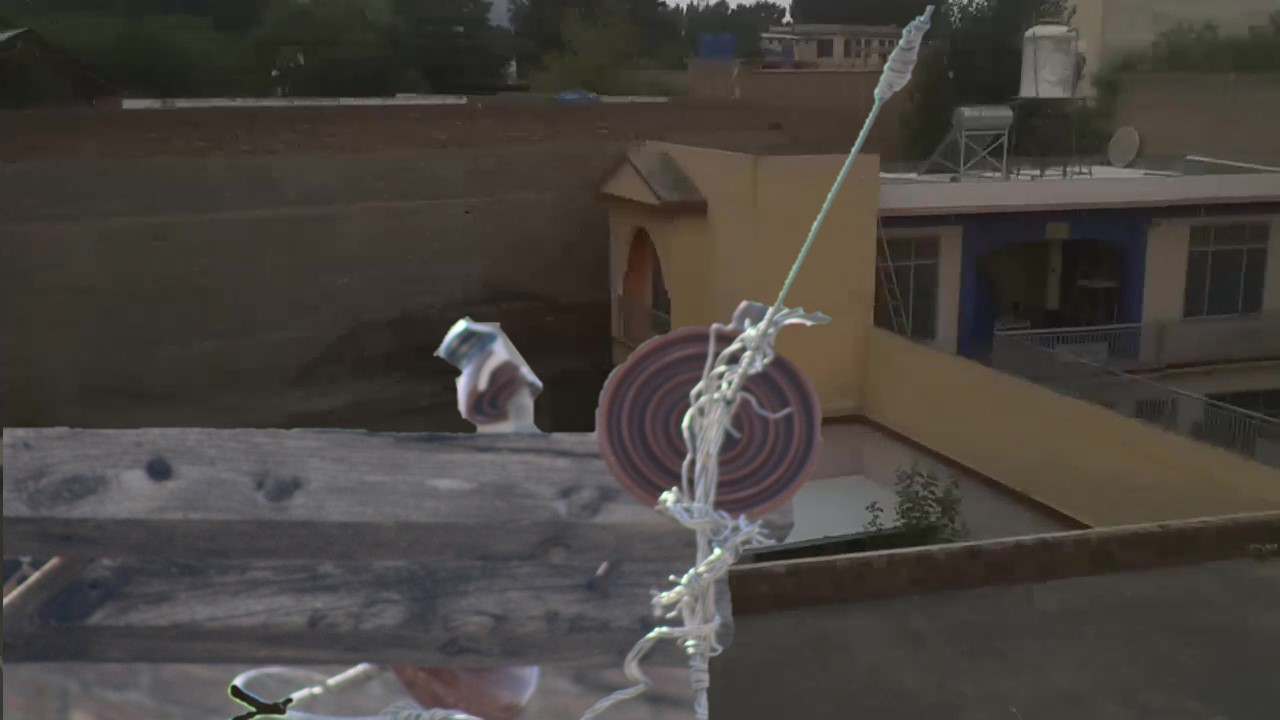defect_pin: (430, 302, 547, 430)
insulator_disc: (591, 315, 825, 514)
